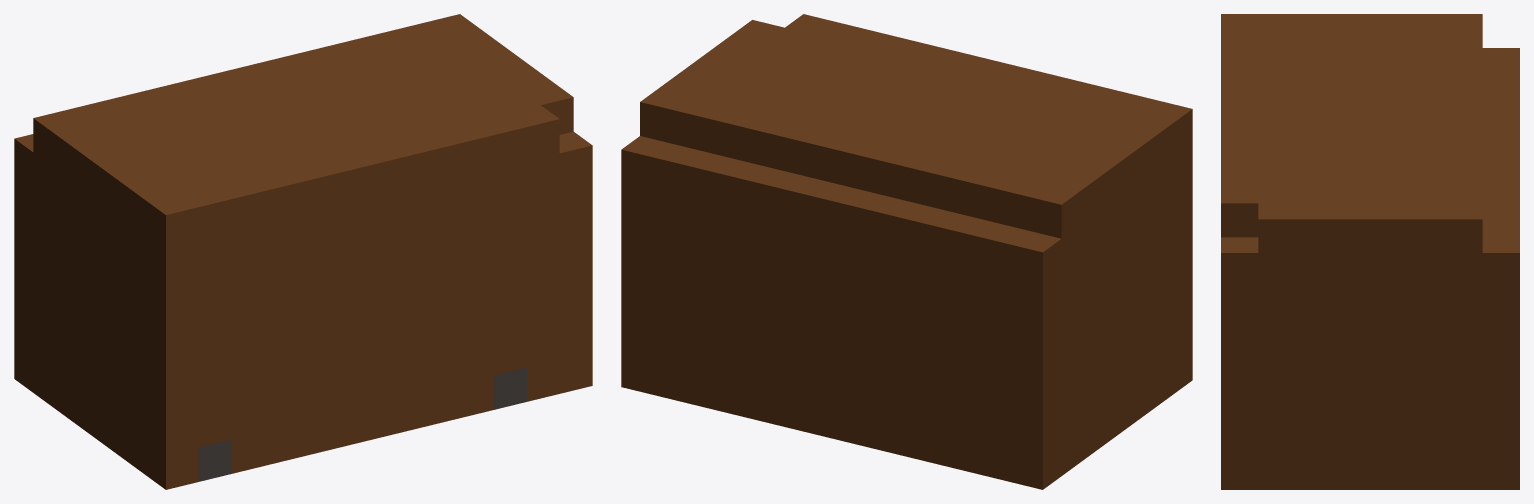
The model's file is sea_chest_lod1.glb.
The picture shows the model from 3 angles, left to right: view 1: azimuth 30°, elevation 25°; view 2: azimuth 150°, elevation 25°; view 3: azimuth 270°, elevation 25°; orthographic projection.
Visible parts, largest first — view 1: sea_chest_lid, sea_chest_base; view 2: sea_chest_lid, sea_chest_base; view 3: sea_chest_lid, sea_chest_base.
Boxes of the visible parts, box(x1,y1,x2,y2) form: sea_chest_lid: box(14, 14, 592, 317); sea_chest_base: box(14, 207, 592, 489); sea_chest_lid: box(621, 14, 1192, 320); sea_chest_base: box(621, 211, 1192, 489); sea_chest_lid: box(1221, 14, 1519, 320); sea_chest_base: box(1221, 320, 1519, 489).
Bounding box in the file's own units: 1.04 × 0.64 × 0.64.
